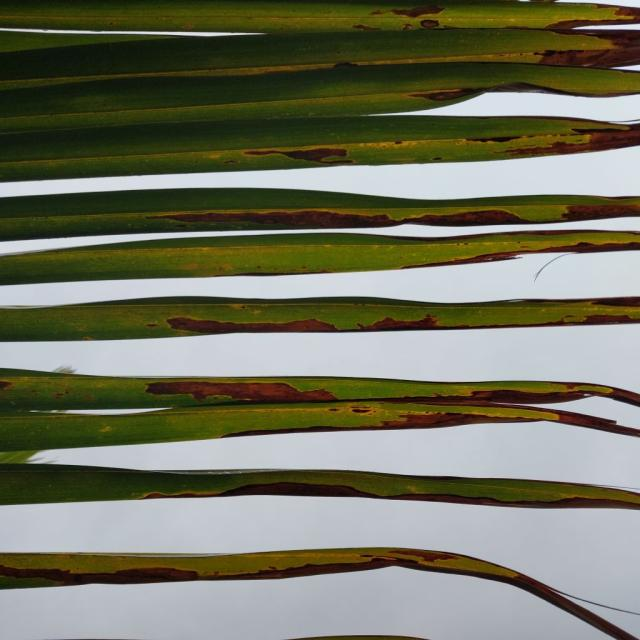gray leaf spot: (10, 4, 638, 178), (120, 296, 640, 447), (103, 463, 637, 606), (66, 189, 640, 242)
